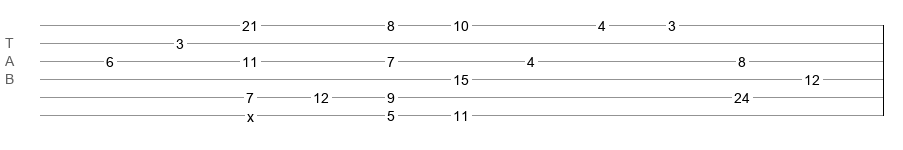10: (453, 18, 469, 28)
11: (242, 54, 258, 64), (453, 108, 469, 118)
12: (313, 90, 329, 100), (804, 72, 820, 82)
15: (453, 72, 469, 82)
21: (242, 18, 258, 28)
24: (734, 90, 750, 100)
3: (176, 36, 184, 46), (668, 18, 676, 28)
4: (527, 54, 535, 64), (598, 18, 606, 28)
5: (387, 108, 395, 118)
6: (106, 54, 114, 64)
7: (246, 90, 254, 100), (387, 54, 395, 64)
8: (387, 18, 395, 28), (738, 54, 746, 64)
9: (387, 90, 395, 100)
x: (247, 109, 254, 117)
